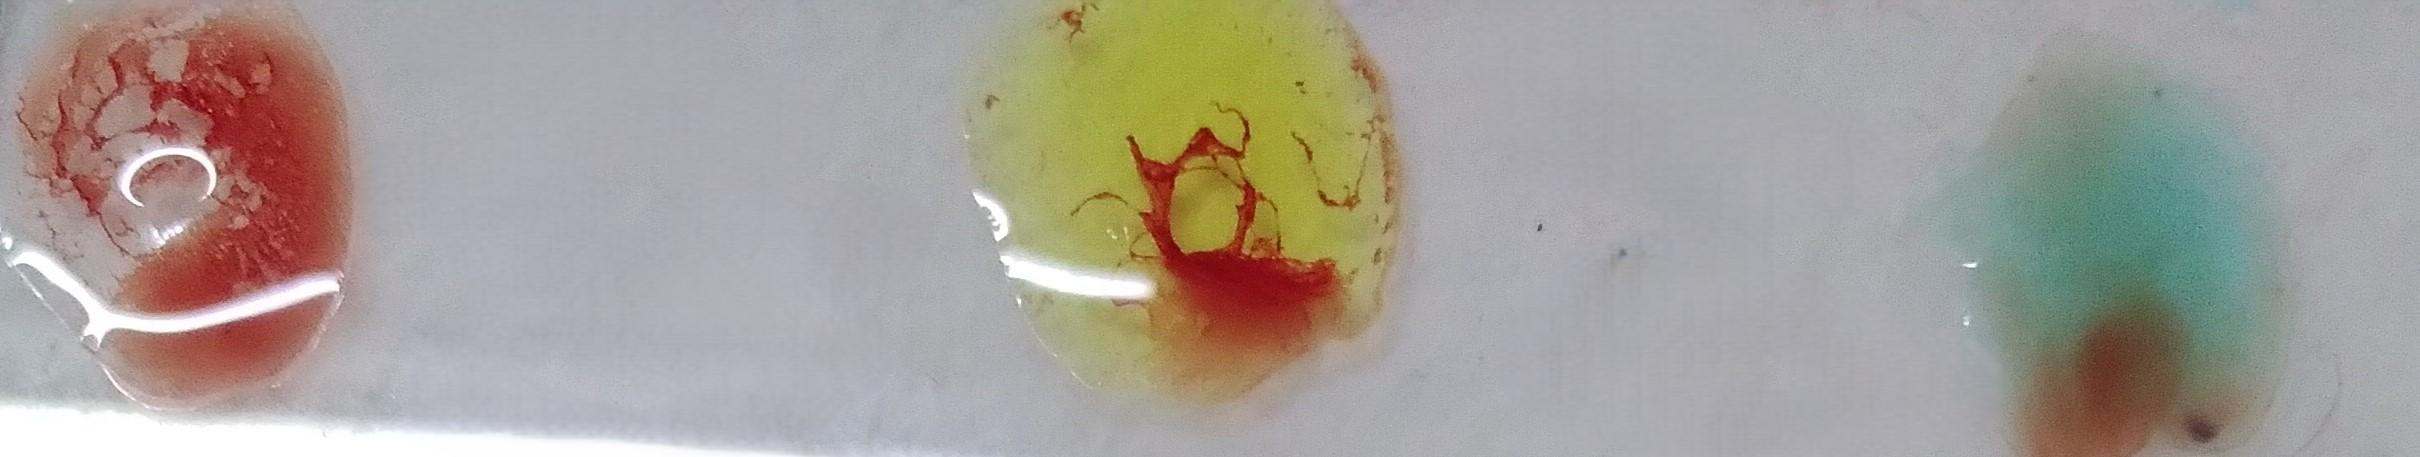B: (975, 12, 1401, 375)
D: (26, 19, 352, 409)
